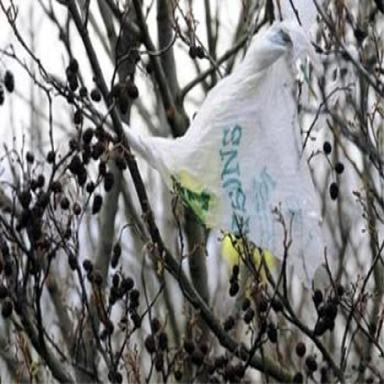plasticbag: (120, 11, 337, 283)
